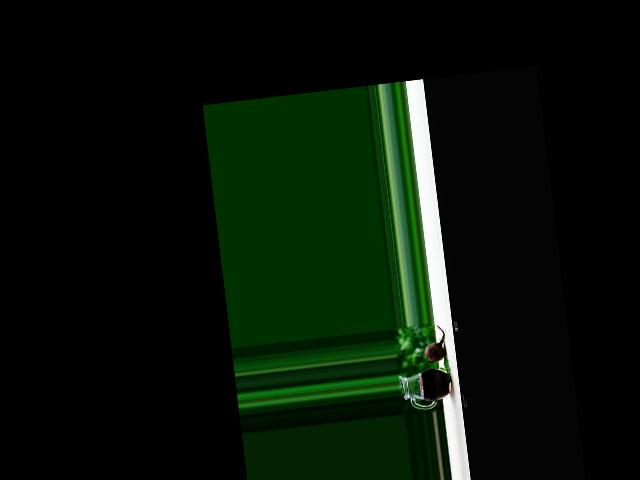beet: (422, 325, 448, 363)
